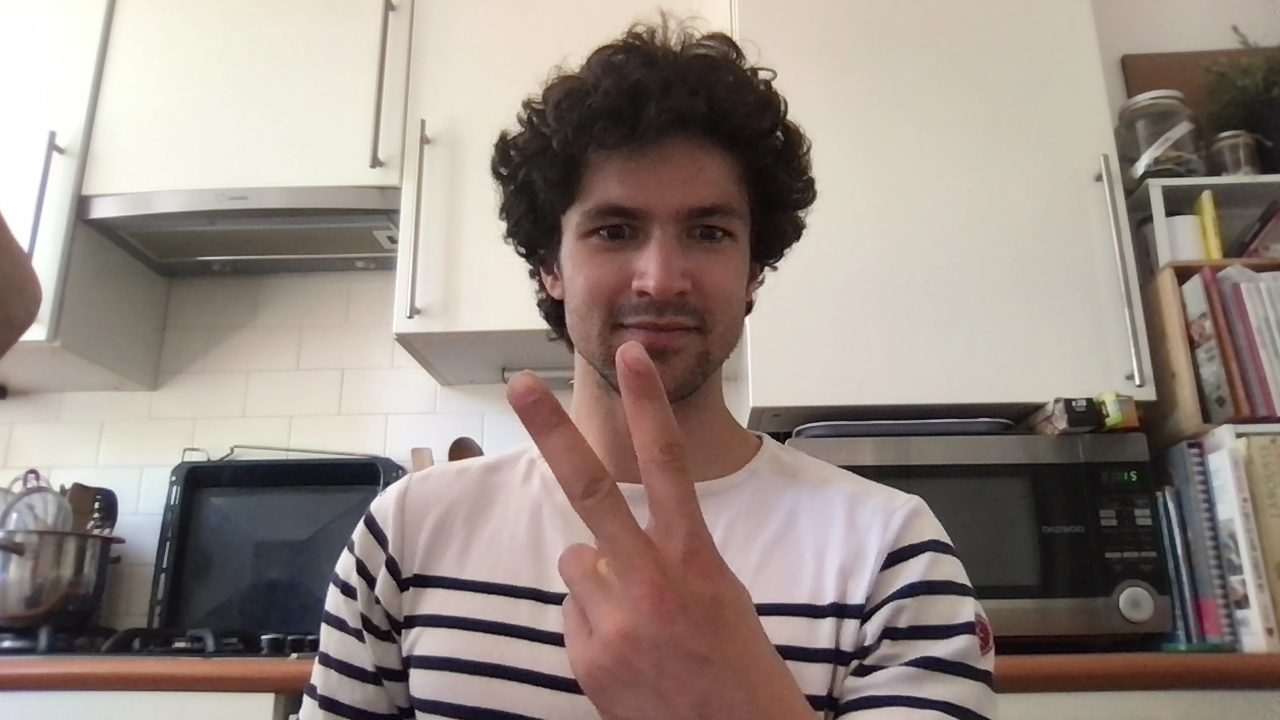peace: (507, 340, 744, 714)
